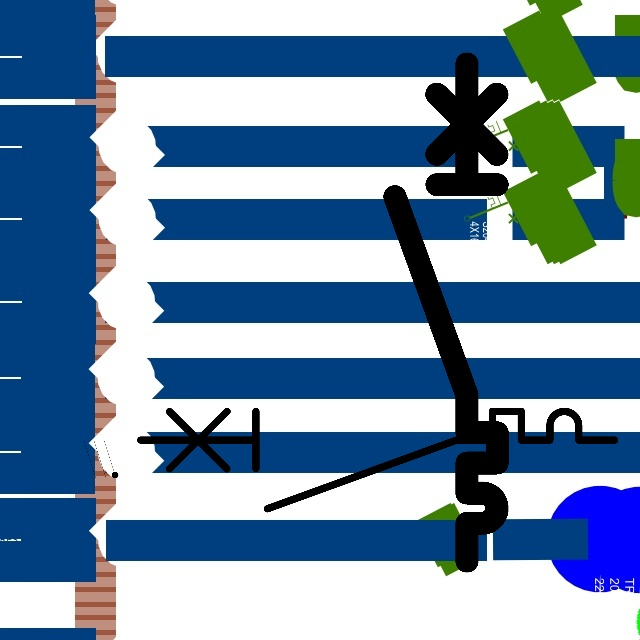interruptor_termomagnetico: (382, 51, 510, 574), (128, 399, 627, 521)
